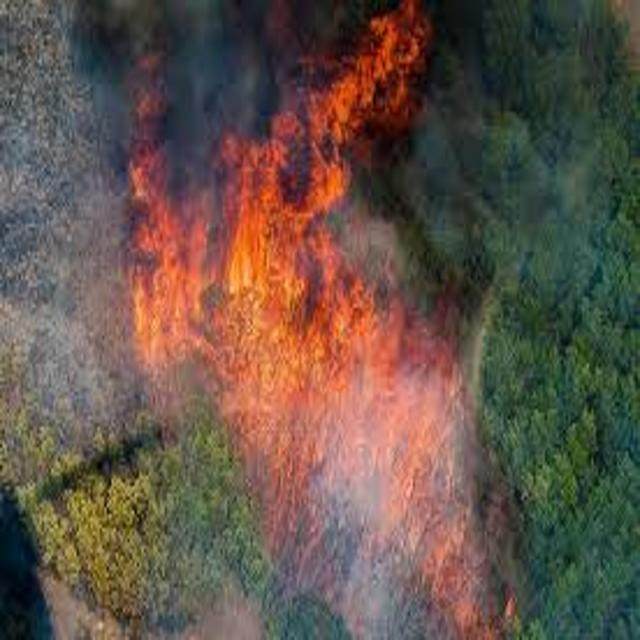Fire: (222, 0, 525, 640), (111, 38, 218, 376)
Smoke: (67, 0, 290, 176)
